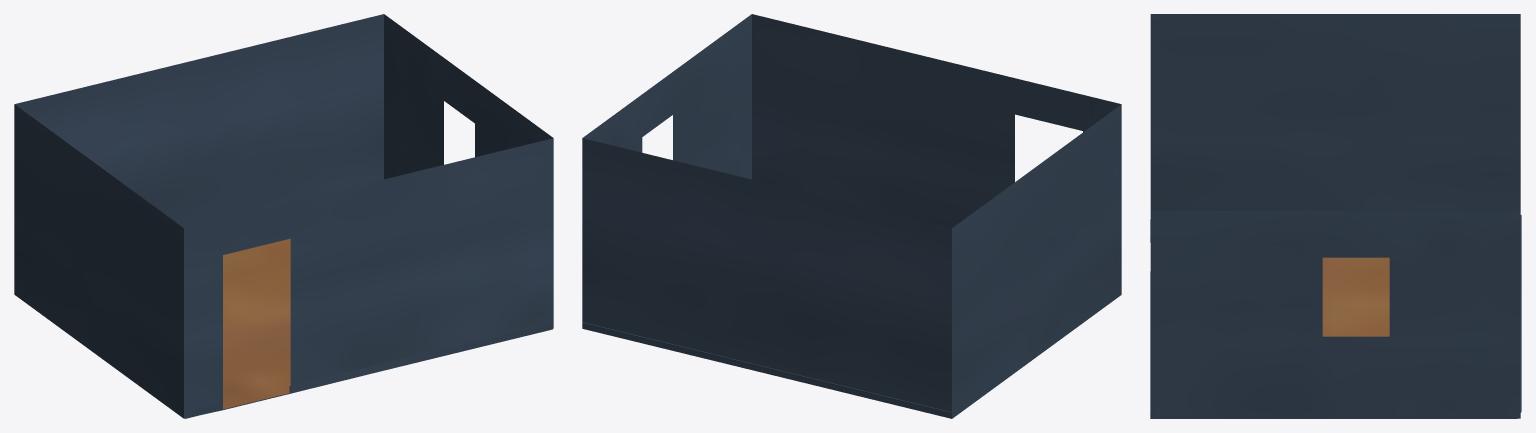
File: paredes.fbx
3 renders of one model, left to right at view 1: azimuth 30°, elevation 25°; view 2: azimuth 150°, elevation 25°; view 3: azimuth 270°, elevation 25°, orthographic. The views are drawn at different scales.
Parts seen in each view (by area): view 1: Paredes y suelo.002; view 2: Paredes y suelo.002; view 3: Paredes y suelo.002.
Boxes of the visible parts, box(x1,y1,x2,y2) form: Paredes y suelo.002: box(14, 14, 553, 418); Paredes y suelo.002: box(582, 14, 1121, 418); Paredes y suelo.002: box(1150, 14, 1521, 418).
Size of the model in its own units: 600 by 297 by 478.
